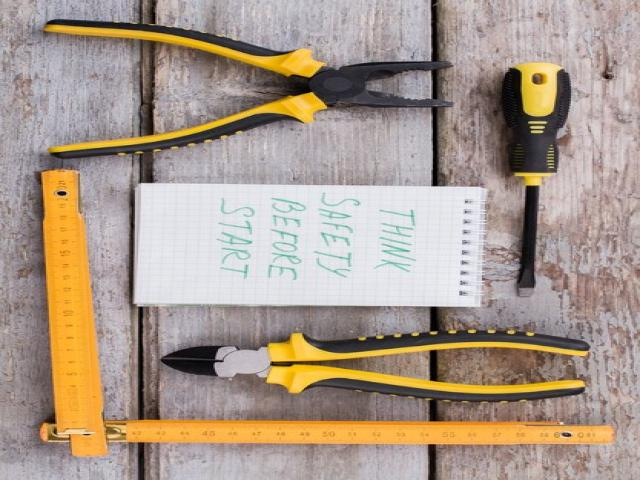Cutting pliers: (161, 330, 589, 401)
Pliers: (43, 20, 452, 158)
Screwdriver: (501, 62, 570, 296)
